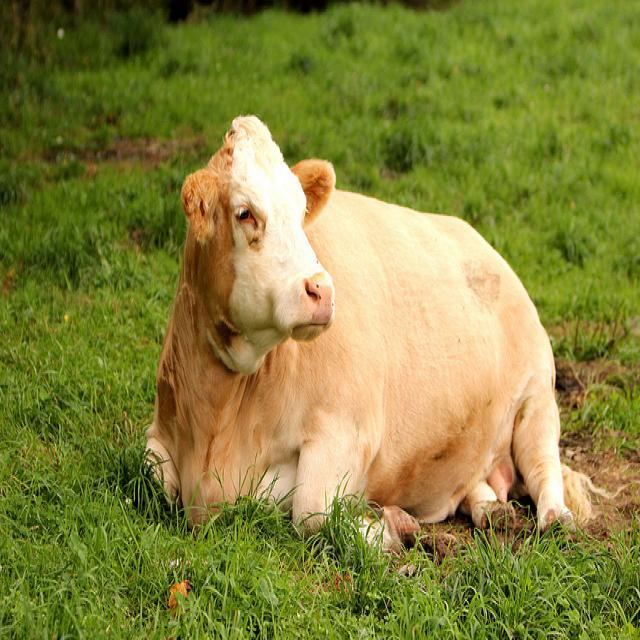cow: (144, 110, 619, 549)
